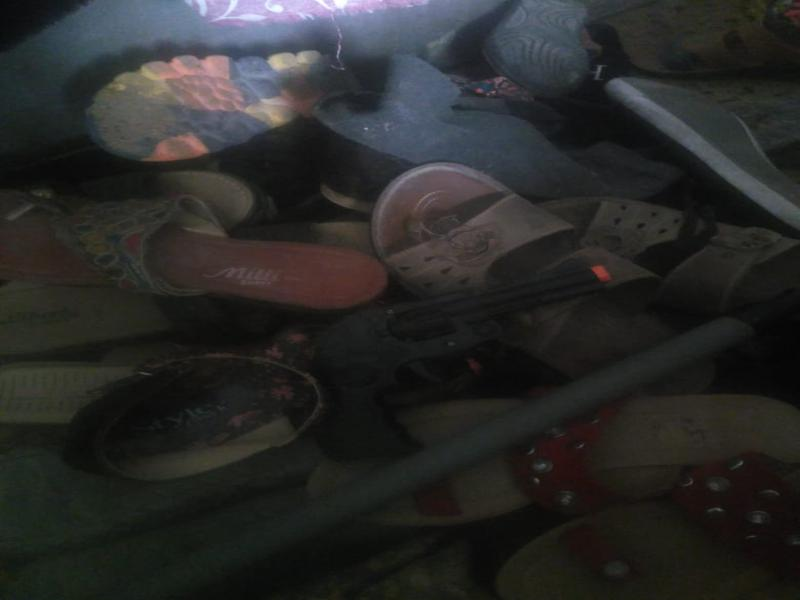gun: (296, 254, 628, 466)
